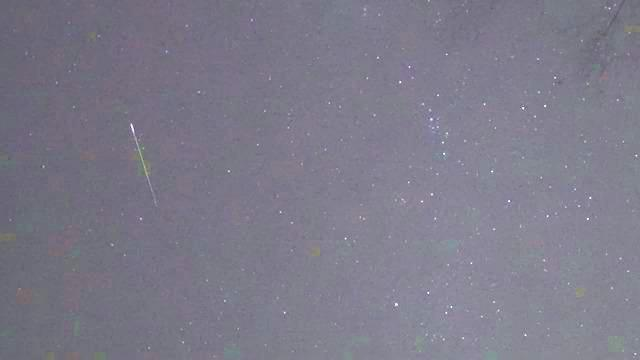meteorite: (120, 113, 160, 219)
